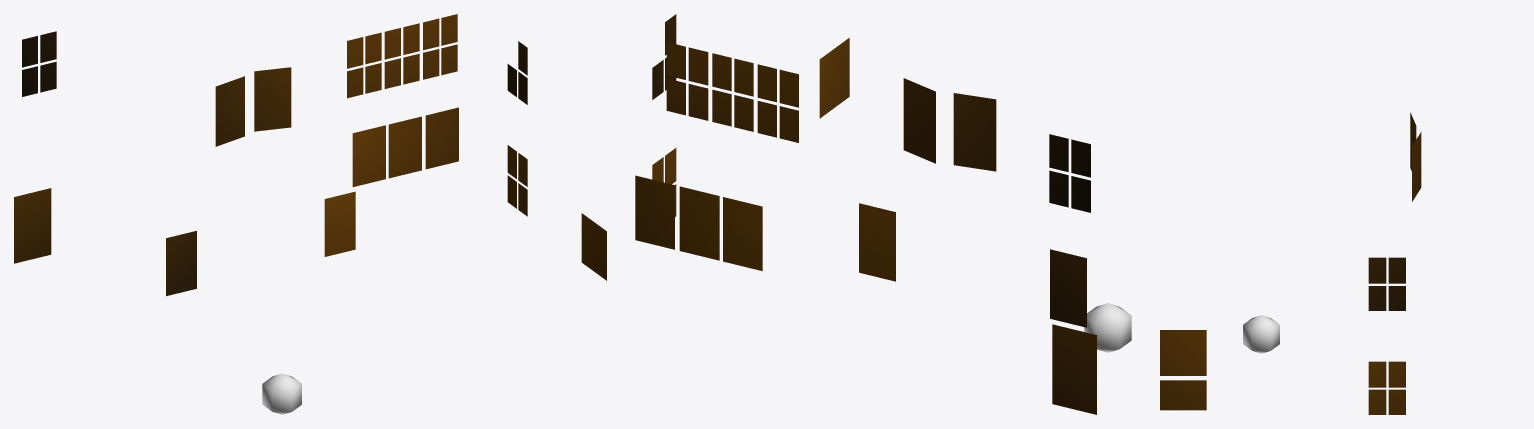
The model's file is Mansion_Windows_01.FBX.
3 renders of one model, left to right at view 1: azimuth 30°, elevation 25°; view 2: azimuth 150°, elevation 25°; view 3: azimuth 270°, elevation 25°, orthographic. The views are drawn at different scales.
Parts seen in each view (by area): view 1: window011, window003, window017, window018, window016, window009, window007, window019, window006, window008, window004, window010 (+4 smaller); view 2: window011, window004, window016, window017, window019, window018, window006, window008, window007, window009, window010, window003 (+4 smaller); view 3: window014, window013, window015, Windows parent object, window003.
Part boxes in pixels (box(x1,y1,x2,y2)): window011: box(14, 188, 51, 263); window003: box(254, 67, 291, 131); window017: box(384, 23, 419, 88); window018: box(347, 32, 381, 98); window016: box(423, 14, 457, 79); window009: box(324, 191, 355, 256); window007: box(352, 125, 385, 186); window019: box(22, 31, 56, 96); window006: box(388, 116, 421, 178); window008: box(425, 107, 458, 169); window004: box(215, 76, 244, 146); window010: box(166, 230, 196, 296); window011: box(1052, 324, 1096, 414); window004: box(953, 93, 996, 171); window016: box(666, 42, 708, 120); window017: box(712, 53, 753, 131); window019: box(1049, 134, 1090, 212); window018: box(757, 64, 798, 142); window006: box(679, 186, 719, 260); window008: box(635, 175, 674, 249); window007: box(723, 197, 762, 270); window009: box(859, 203, 895, 281); window010: box(1050, 249, 1086, 327); window003: box(903, 78, 935, 163); window014: box(1160, 330, 1206, 410); window013: box(1368, 361, 1405, 414); window015: box(1368, 257, 1405, 310); Windows parent object: box(1243, 315, 1279, 353); window003: box(1412, 132, 1421, 201).
Bounding box in the file's own units: 220 × 148 × 170.
